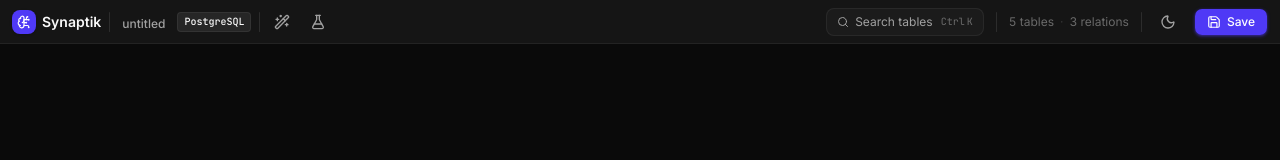
Test: FlowToolbar › enters editing mode on double click
Double-click the button with aria-label "rename project".
double_click(144, 24)  # box [118,16,169,32]
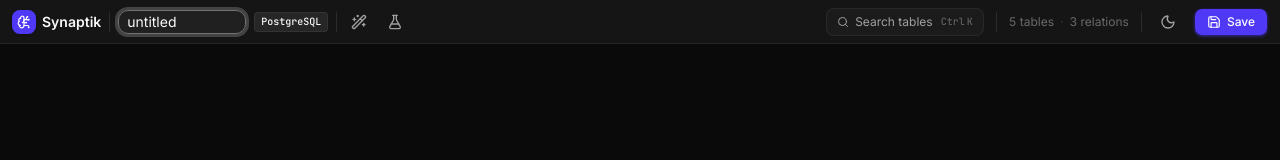
Expected: the field holds "untitled", [118,10,246,34]
